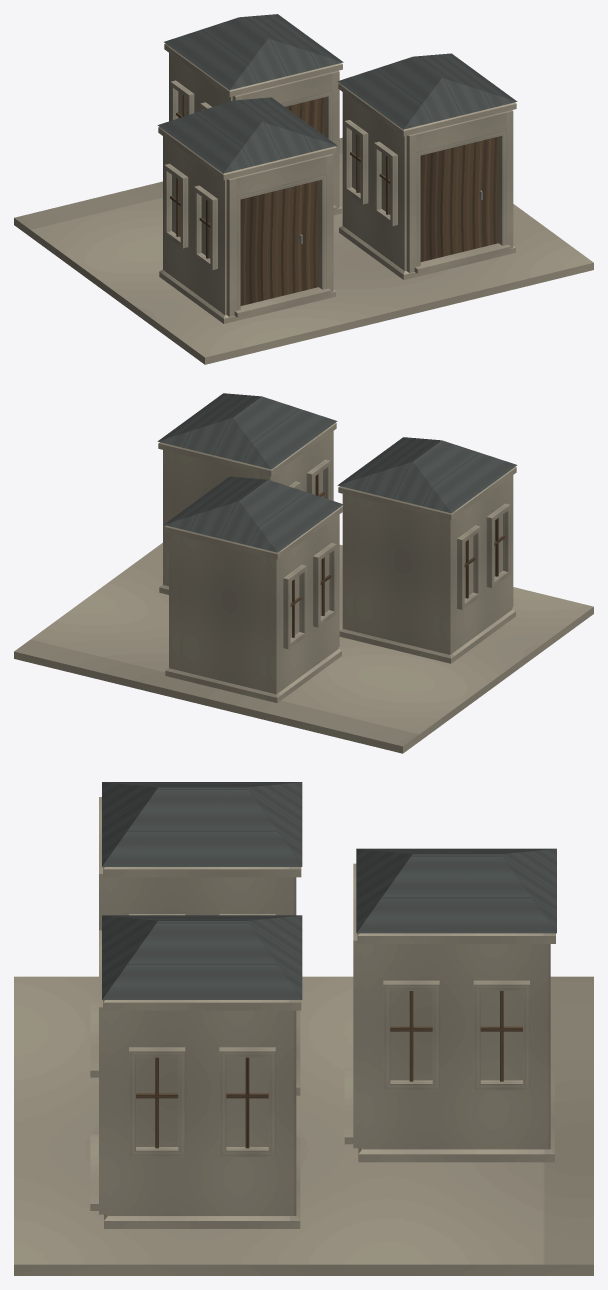
3 views of the same model, one above another, from view 1: azimuth 30°, elevation 25°; view 2: azimuth 150°, elevation 25°; view 3: azimuth 270°, elevation 25° (orthographic). The views are drawn at different scales.
Parts seen in each view (by area): view 1: palikir; view 2: palikir; view 3: palikir.
Boxes of the visible parts, left/top/right/bottom form: palikir: left=14, top=14, right=593, bottom=364; palikir: left=14, top=393, right=593, bottom=753; palikir: left=14, top=782, right=593, bottom=1275.
Bounding box in the file's own units: 6.68 × 3 × 5.68.
Materials: 1 (1 with a texture image).
